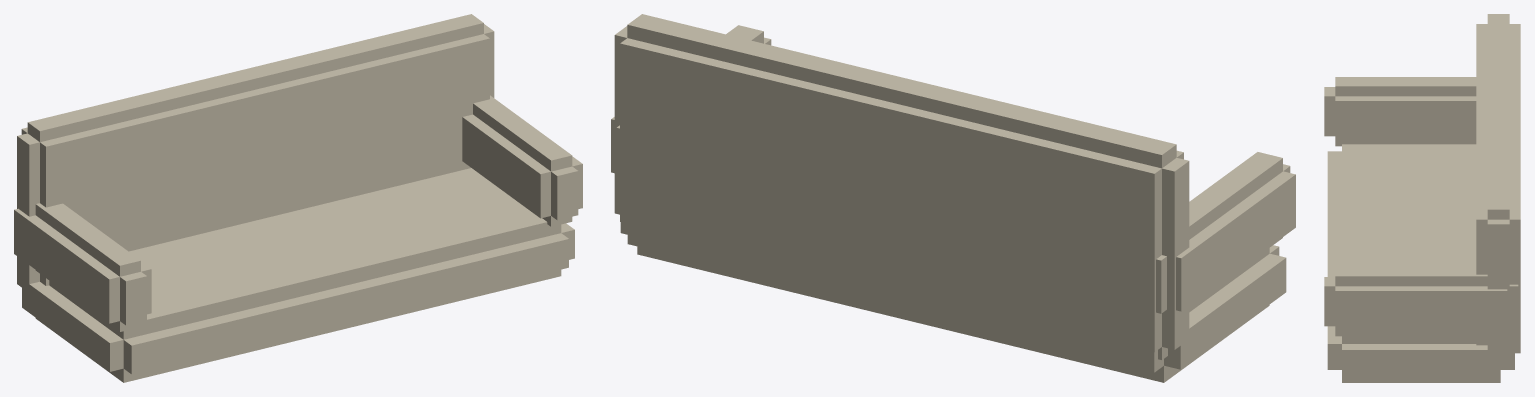
Rendered from fixture_furniture_set.glb.
The picture shows the model from 3 angles, left to right: view 1: azimuth 30°, elevation 25°; view 2: azimuth 150°, elevation 25°; view 3: azimuth 270°, elevation 25°; orthographic projection. The views are drawn at different scales.
Parts seen in each view (by area): view 1: fixture_furniture_set_Woven_1; view 2: fixture_furniture_set_Woven_1; view 3: fixture_furniture_set_Woven_1.
Boxes of the visible parts, <box> form: fixture_furniture_set_Woven_1: <box>14,14,582,382</box>; fixture_furniture_set_Woven_1: <box>611,14,1295,382</box>; fixture_furniture_set_Woven_1: <box>1324,14,1520,382</box>.
Size of the model in its own units: 2.24 by 0.875 by 0.89.
